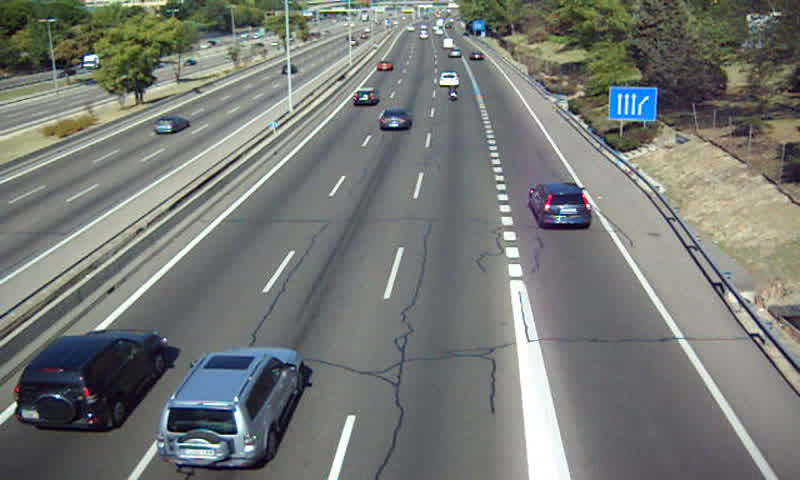car: (161, 348, 303, 471), (14, 328, 162, 429), (527, 182, 594, 229), (380, 109, 414, 132), (353, 88, 380, 109), (438, 72, 460, 87), (376, 60, 395, 71)
motorcycle: (446, 83, 459, 101)
